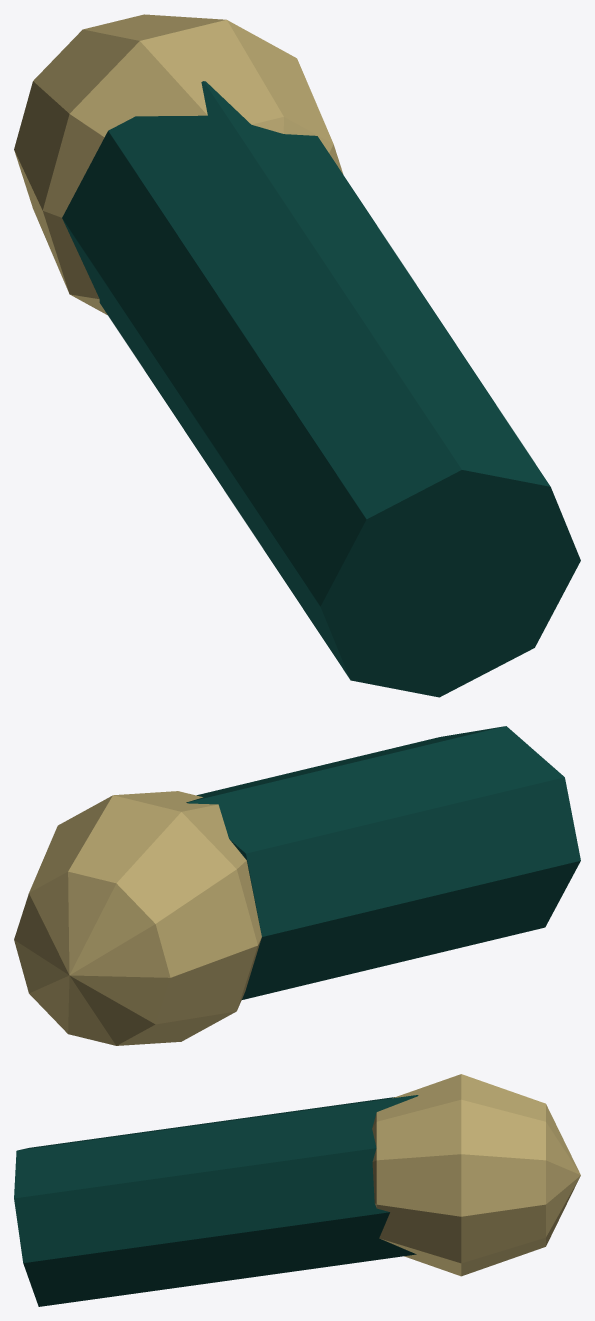
File: Resident0LeftArm.obj
The picture shows the model from 3 angles, top to bottom: view 1: azimuth 30°, elevation 25°; view 2: azimuth 150°, elevation 25°; view 3: azimuth 270°, elevation 25°; orthographic projection. The views are drawn at different scales.
Parts seen in each view (by area): view 1: Resident0LeftArm; view 2: Resident0LeftArm; view 3: Resident0LeftArm.
Part boxes in pixels (x1,y1,x2,y2): Resident0LeftArm: (14,14,580,697); Resident0LeftArm: (14,726,580,1045); Resident0LeftArm: (14,1074,580,1306).
Size of the model in its own units: 28.42 by 31.2 by 66.34.
